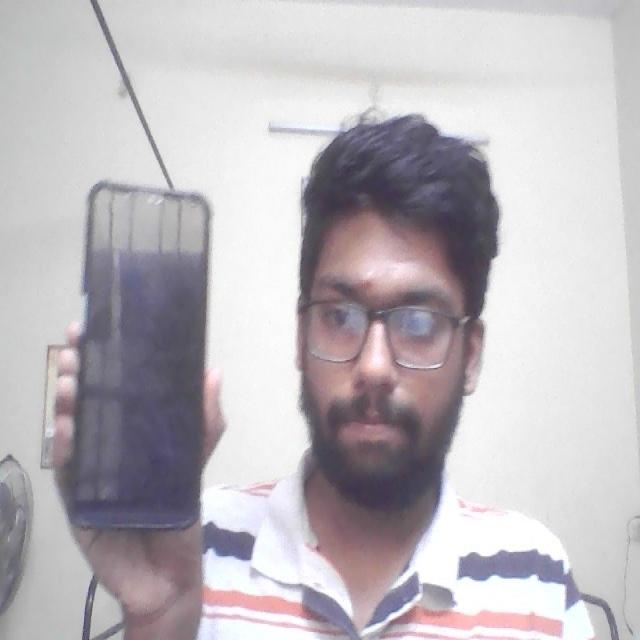Mobile: (66, 175, 213, 538)
